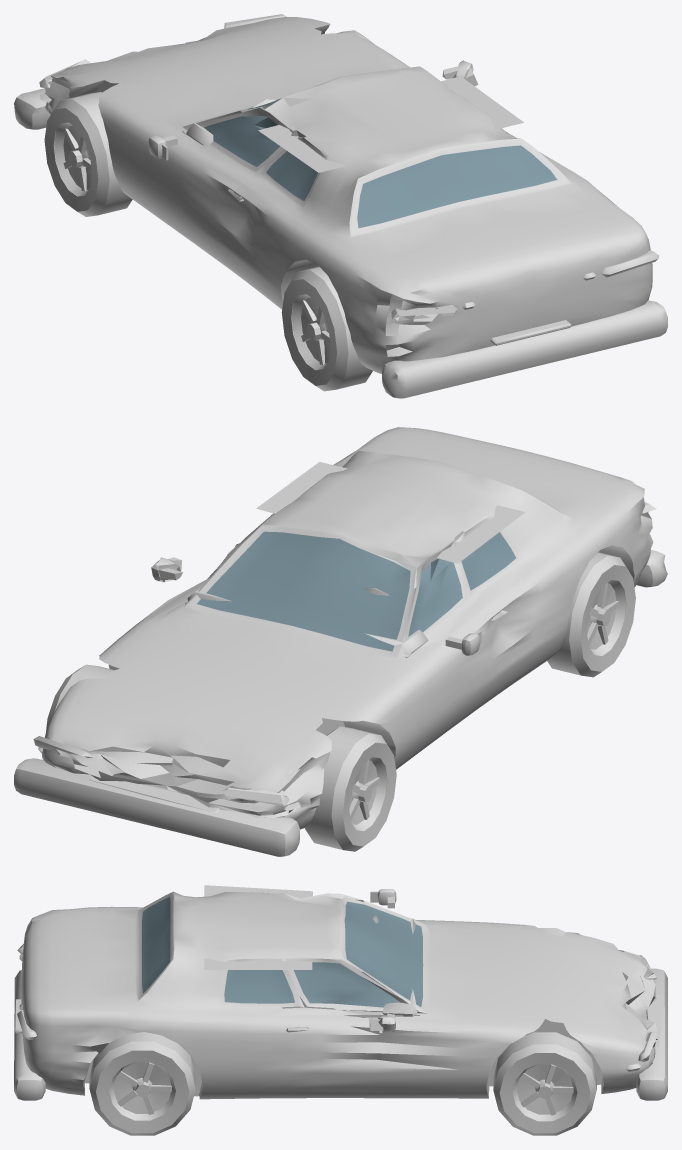
The model's file is car_sports_dmg2.glb.
3 renders of one model, top to bottom at view 1: azimuth 30°, elevation 25°; view 2: azimuth 150°, elevation 25°; view 3: azimuth 270°, elevation 25°, orthographic. The views are drawn at different scales.
Visible parts, largest first — view 1: car_sports_dmg2; view 2: car_sports_dmg2; view 3: car_sports_dmg2.
Boxes of the visible parts, bbox=[...] form: car_sports_dmg2: bbox=[14, 14, 667, 398]; car_sports_dmg2: bbox=[14, 427, 667, 856]; car_sports_dmg2: bbox=[14, 885, 667, 1135].
Size of the model in its own units: 2.18 by 1.23 by 4.55.
